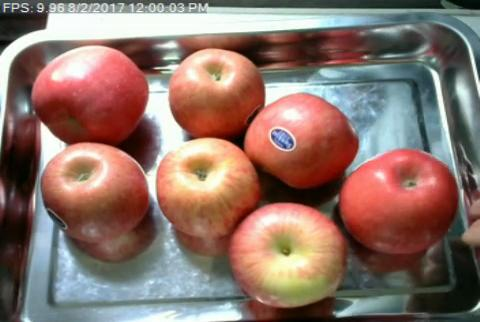apple: (342, 150, 458, 253), (231, 203, 344, 307), (33, 46, 148, 143), (40, 145, 148, 242), (244, 95, 356, 186), (156, 138, 256, 235), (170, 49, 263, 136)
